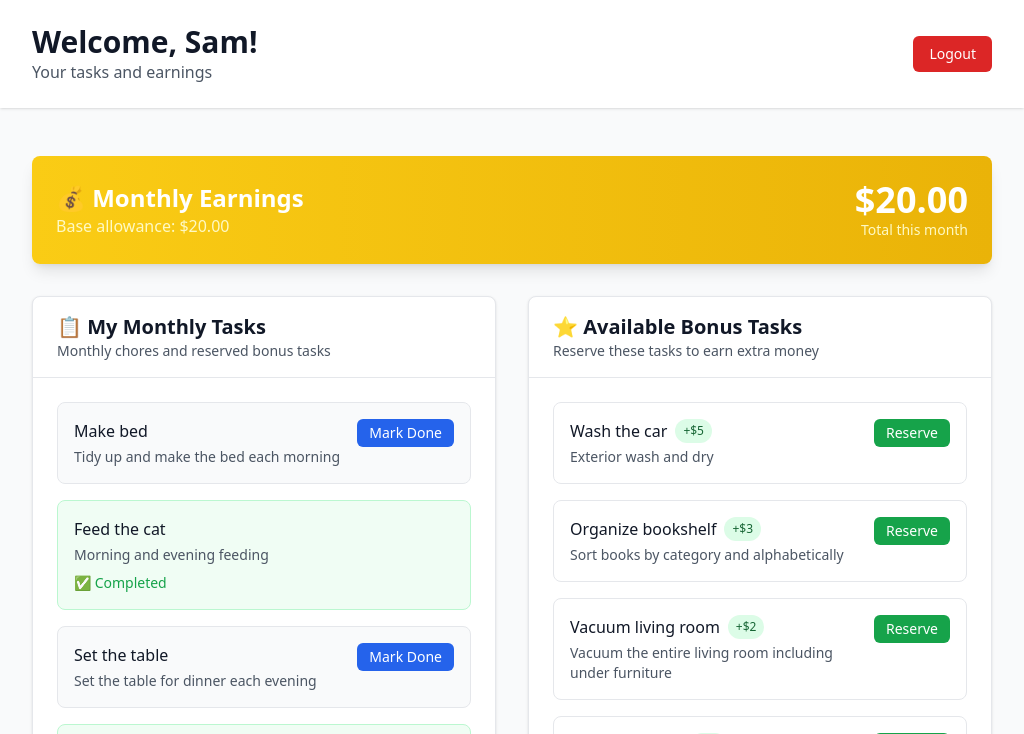
Test: ChildDashboard › should handle completing a chore
Expected: the heading "Make bed" is shown, top-left (74, 419), bottom-right (148, 443)
Click the button "Mark Done" in the row of "Make bed" at (406, 433), box top-left (357, 419), bottom-right (454, 447)
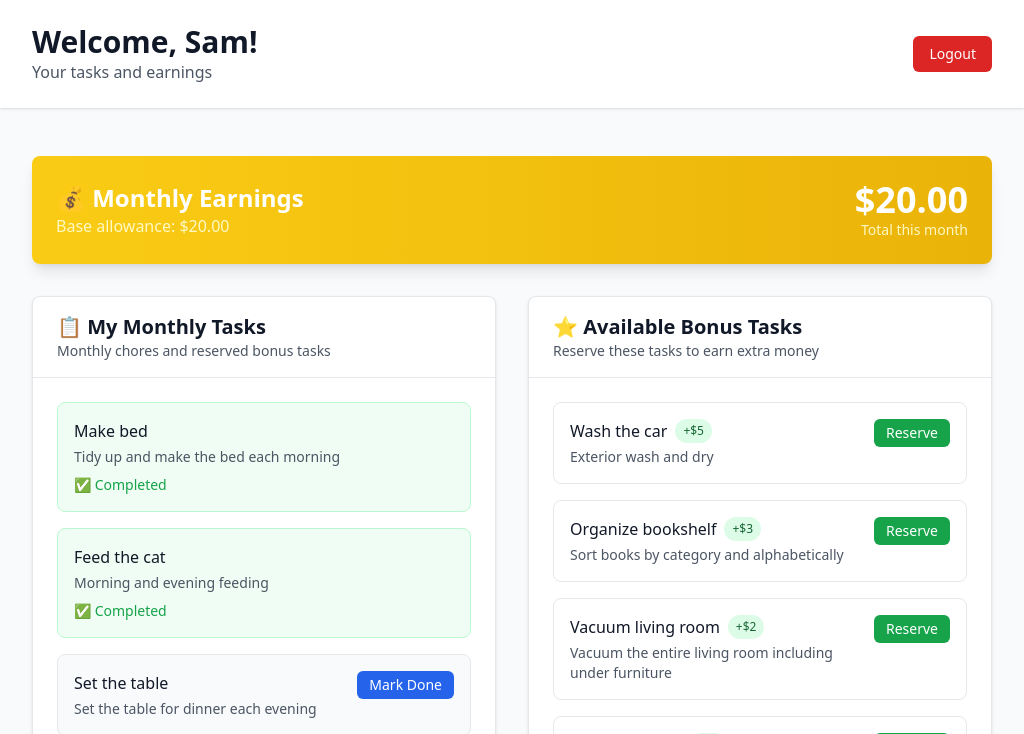
Expected: the text "✅ Completed" is shown 3 times
